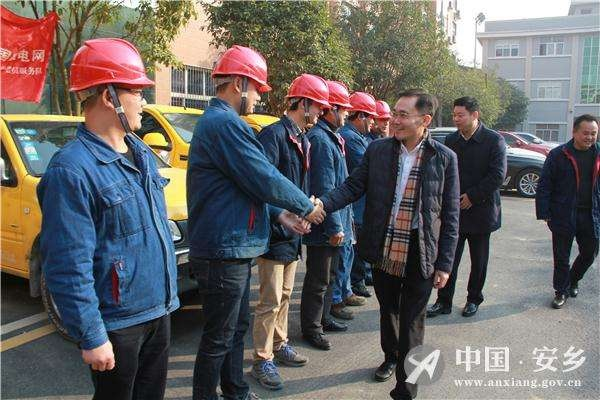none: (390, 87, 437, 143), (570, 112, 600, 150), (450, 95, 480, 132)
red: (66, 35, 148, 134), (212, 42, 270, 118), (283, 73, 330, 126), (322, 79, 350, 127), (347, 90, 376, 133), (372, 97, 392, 134)
